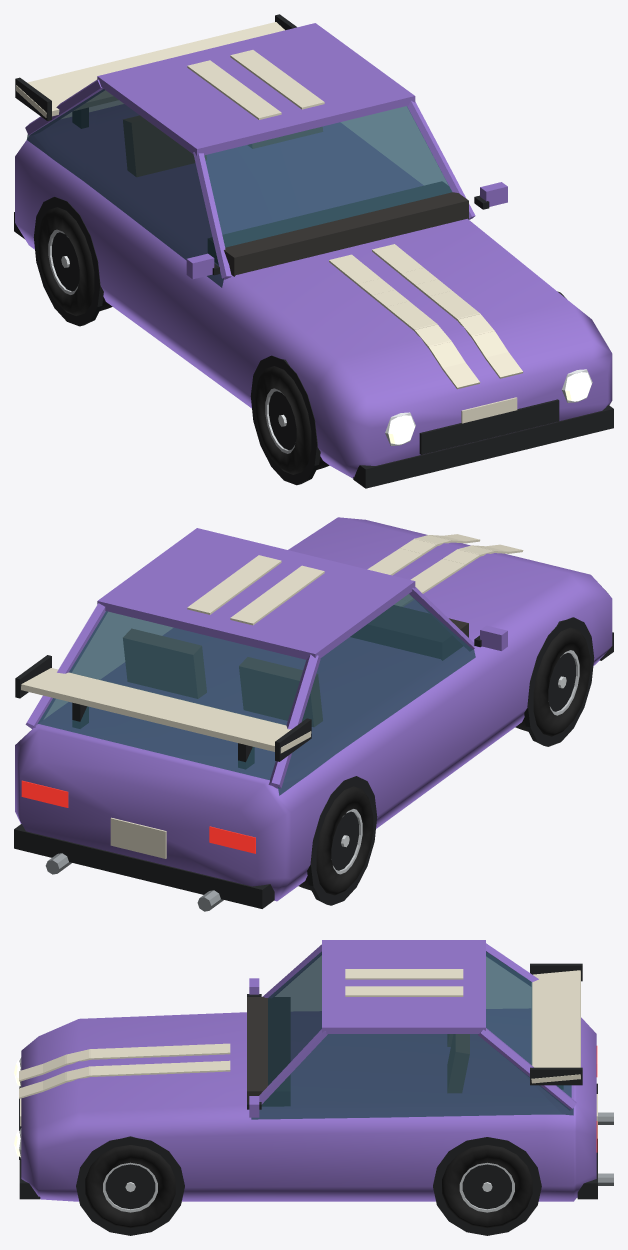
The model's file is heron-hothatch.glb.
3 renders of one model, top to bottom at view 1: azimuth 30°, elevation 25°; view 2: azimuth 150°, elevation 25°; view 3: azimuth 270°, elevation 25°, orthographic. The views are drawn at different scales.
Parts seen in each view (by area): view 1: body, wheel_RR, wheel_FR, headlight_L, headlight_R, plate_F; view 2: body, wheel_FR, wheel_RR, plate_R, taillight_L, taillight_R; view 3: body, wheel_FL, wheel_RL.
Boxes of the visible parts, box(x1,y1,x2,y2) form: body: box(14, 14, 613, 488); wheel_RR: box(37, 207, 112, 315); wheel_FR: box(254, 366, 329, 474); headlight_L: box(562, 369, 592, 402); headlight_R: box(385, 412, 415, 445); plate_F: box(461, 397, 517, 423); body: box(14, 517, 613, 908); wheel_FR: box(515, 627, 590, 736); wheel_RR: box(298, 786, 373, 895); plate_R: box(110, 817, 166, 858); taillight_L: box(21, 780, 68, 807); taillight_R: box(209, 826, 255, 853); body: box(19, 940, 597, 1235); wheel_FL: box(85, 1145, 175, 1228); wheel_RL: box(442, 1145, 532, 1228).
Bounding box in the file's own units: 2.05 × 1.5 × 4.12.
